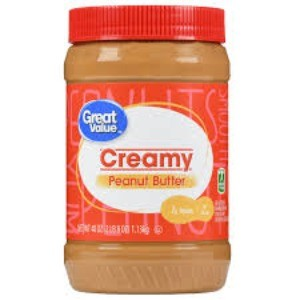peanut butter_brain food: (72, 74, 219, 209)
